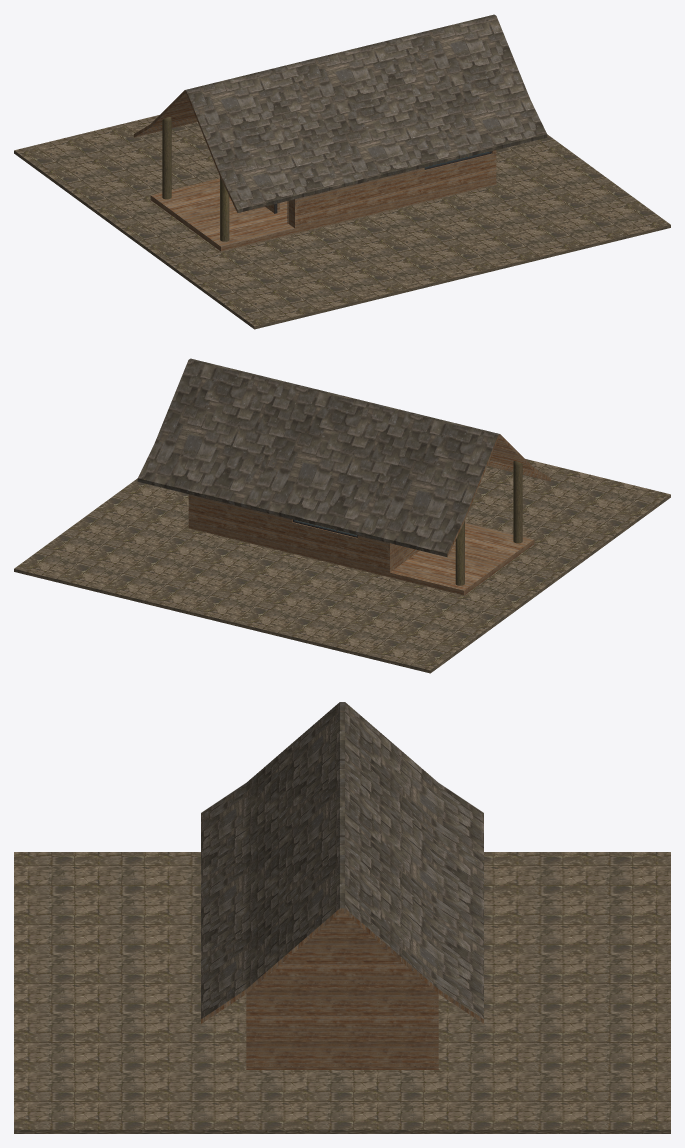
3 views of the same model, one above another, from view 1: azimuth 30°, elevation 25°; view 2: azimuth 150°, elevation 25°; view 3: azimuth 270°, elevation 25° (orthographic). The views are drawn at different scales.
Parts seen in each view (by area): view 1: Concreto, Tejado, Cuerpo, Piso, Columnas, Cielorazo; view 2: Concreto, Tejado, Cuerpo, Piso, Columnas, Cielorazo; view 3: Concreto, Tejado, Cuerpo, Cielorazo, Piso.
Boxes of the visible parts, left/top/right/bottom form: Concreto: left=14, top=115, right=670, bottom=329; Tejado: left=185, top=14, right=547, bottom=212; Cuerpo: left=265, top=150, right=496, bottom=228; Piso: left=150, top=178, right=496, bottom=251; Columnas: left=162, top=117, right=229, bottom=241; Cielorazo: left=134, top=90, right=237, bottom=212; Concreto: left=14, top=459, right=670, bottom=673; Tejado: left=137, top=358, right=499, bottom=556; Cuerpo: left=188, top=494, right=419, bottom=572; Piso: left=188, top=520, right=534, bottom=595; Columnas: left=455, top=461, right=522, bottom=585; Cielorazo: left=447, top=434, right=550, bottom=556; Concreto: left=14, top=852, right=670, bottom=1133; Tejado: left=201, top=702, right=483, bottom=1018; Cuerpo: left=246, top=913, right=438, bottom=1063; Cielorazo: left=201, top=908, right=483, bottom=1023; Piso: left=246, top=1063, right=438, bottom=1069.
Size of the model in its own units: 12.87 by 4.1 by 12.87.
Materials: 6 (6 with a texture image).
